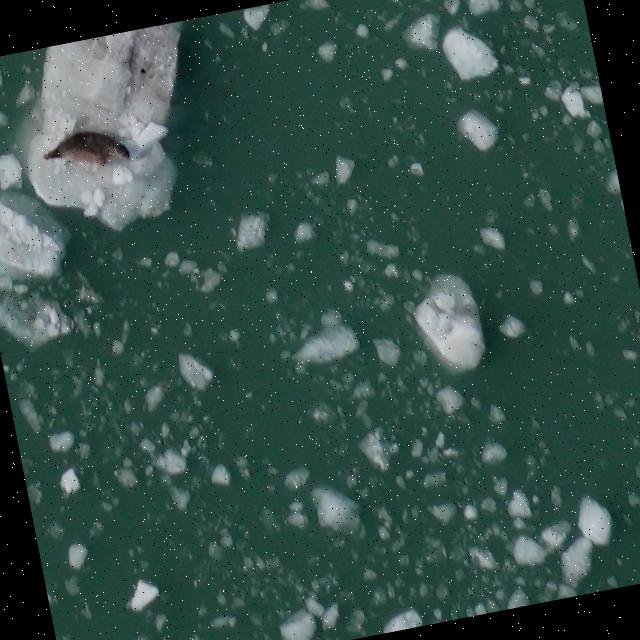seal: (34, 119, 138, 182)
